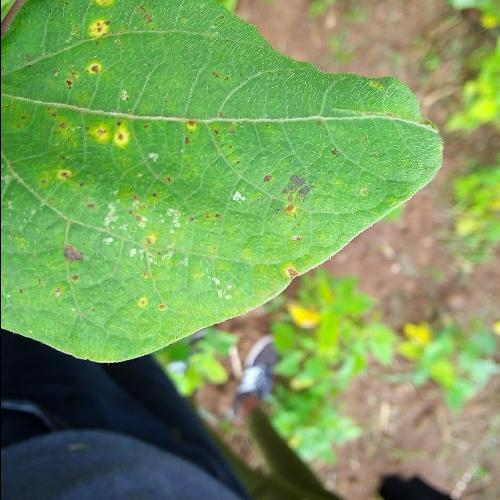hawar: (12, 0, 207, 206), (48, 219, 198, 324), (250, 116, 336, 285)
